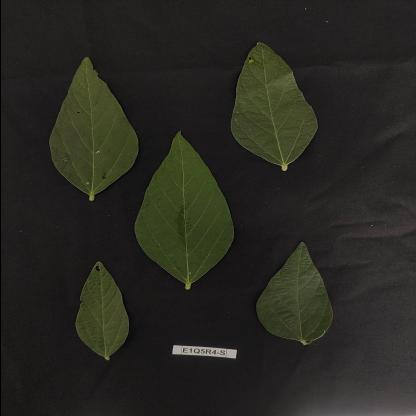label: (168, 340, 236, 366)
leaflets: (217, 2, 324, 174), (138, 131, 232, 308), (42, 53, 140, 215), (258, 230, 356, 355), (64, 254, 147, 360)
